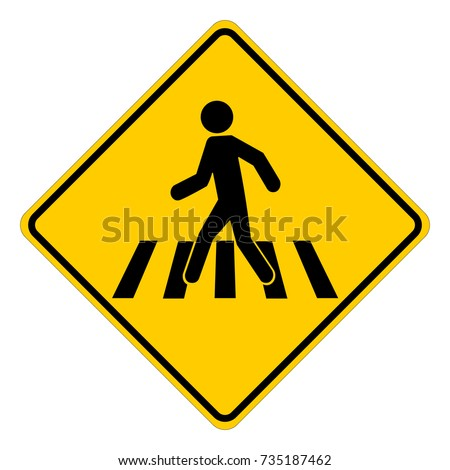pedestrian: (62, 72, 372, 407)
